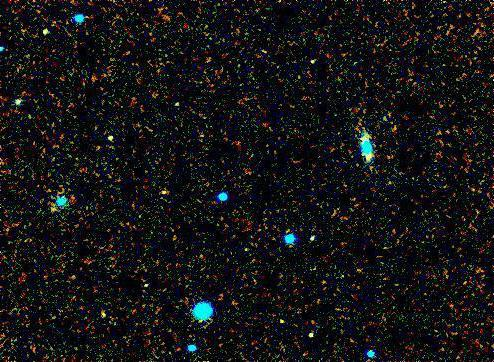star: (37, 194, 67, 224)
